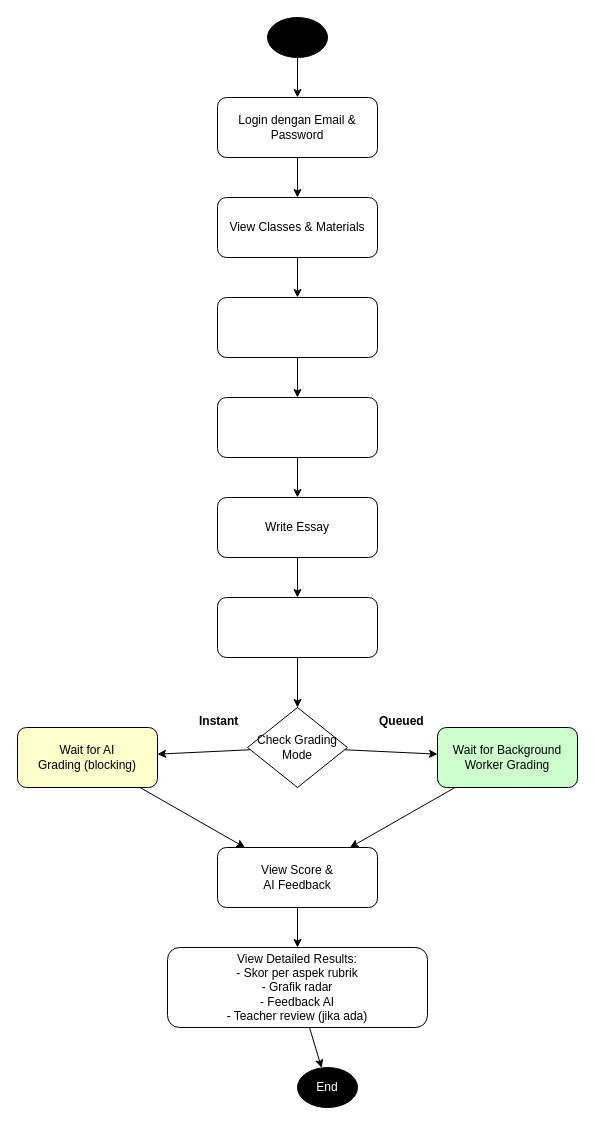
The diagram is 595 pixels wide and 1125 high, and some of its shapes have lost their labels. The shapes that lost their labels are listed below. From the top down, each one's box as (x1, y1, x2, y2) in pixels, then its label:
(266, 16, 328, 58): Start
(216, 296, 378, 358): Select Essay Task
(216, 396, 378, 458): Read Essay Question & Rubric
(216, 596, 378, 658): Submit Essay
